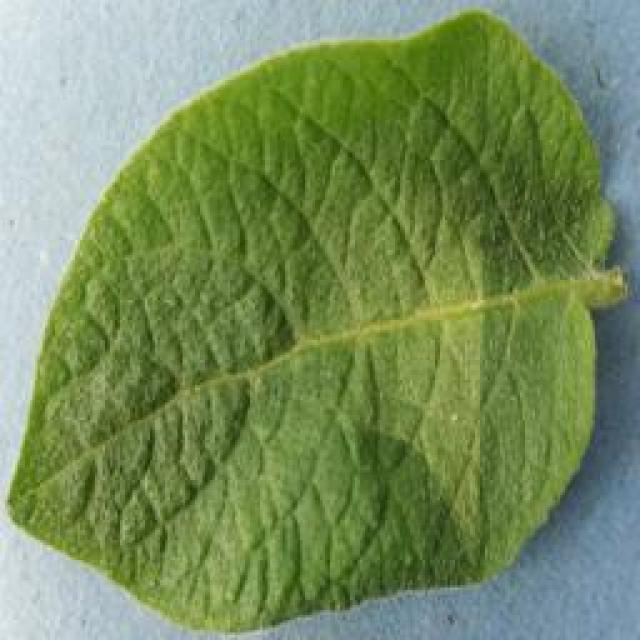Potato_Healthy: (8, 9, 614, 628)
